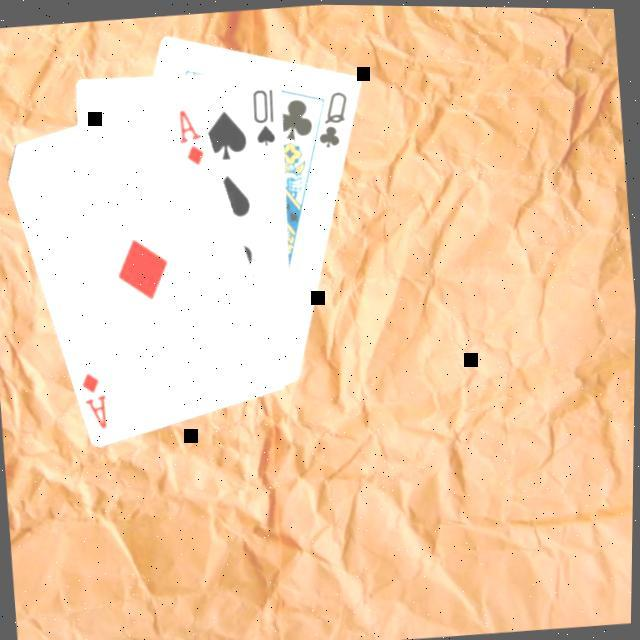10S: (247, 80, 280, 146)
AD: (172, 101, 208, 167), (77, 364, 113, 430)
QC: (310, 84, 354, 150)
